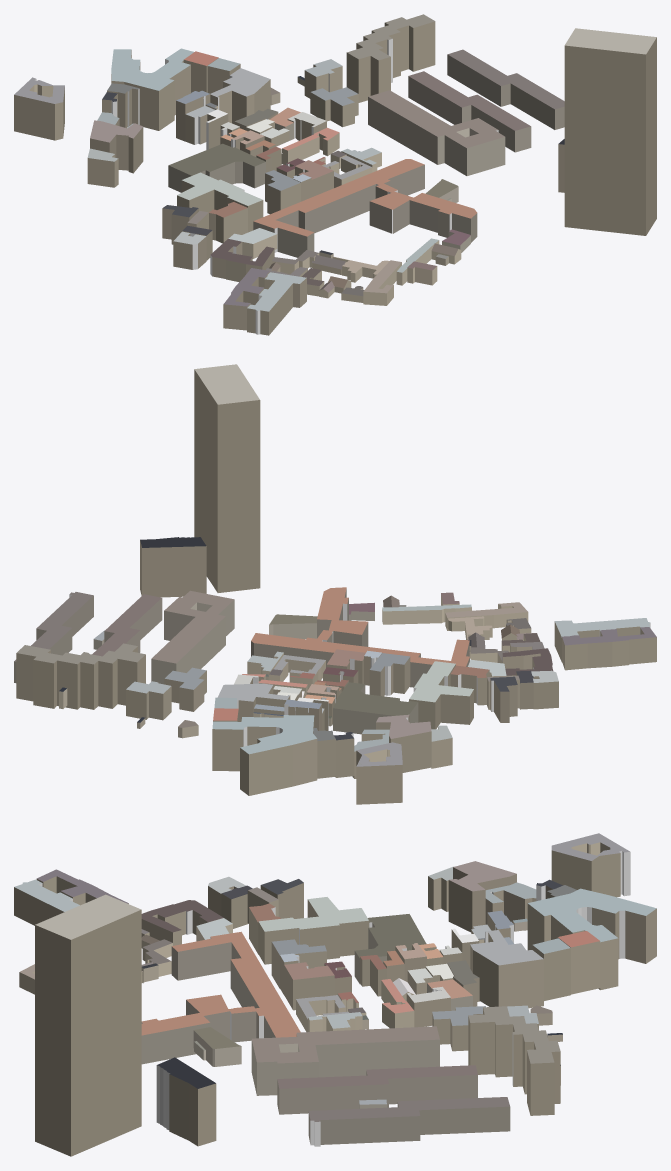
3 renders of one model, top to bottom at view 1: azimuth 30°, elevation 25°; view 2: azimuth 150°, elevation 25°; view 3: azimuth 270°, elevation 25°, orthographic. The views are drawn at different scales.
Visible parts, largest first — view 1: tuile; view 2: tuile; view 3: tuile.
Boxes of the visible parts, <box> form: tuile: <box>14,14,656,335</box>; tuile: <box>14,364,656,804</box>; tuile: <box>14,833,656,1156</box>.
Size of the model in its own units: 276 by 105 by 282.
